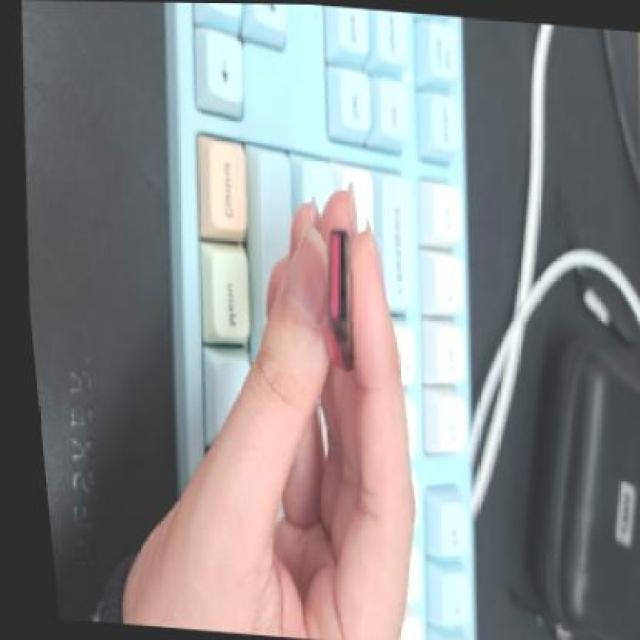Flashdisk: (308, 221, 362, 374)
